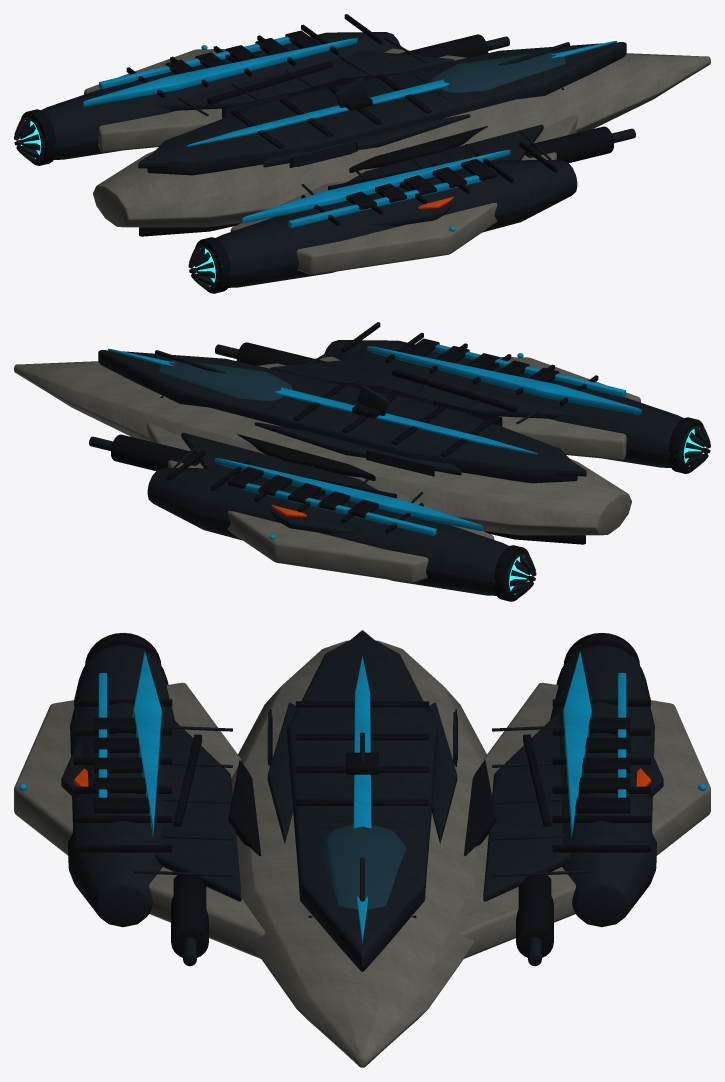
File: wasp_production_v1_lod0.glb
3 renders of one model, top to bottom at view 1: azimuth 30°, elevation 25°; view 2: azimuth 150°, elevation 25°; view 3: azimuth 270°, elevation 25°, orthographic. The views are drawn at different scales.
Visible parts, largest first — view 1: LOD0_Hull_Armor, LOD0_Hull, LOD0_Mechanical, LOD0_Accent, LOD0_Canopy; view 2: LOD0_Hull_Armor, LOD0_Hull, LOD0_Mechanical, LOD0_Accent, LOD0_Canopy; view 3: LOD0_Hull_Armor, LOD0_Hull, LOD0_Mechanical, LOD0_Accent, LOD0_Canopy.
Part boxes in pixels (box(x1,y1,x2,y2)): LOD0_Hull_Armor: box(14, 32, 635, 289); LOD0_Hull: box(84, 48, 710, 274); LOD0_Mechanical: box(20, 14, 613, 293); LOD0_Accent: box(83, 36, 616, 231); LOD0_Canopy: box(432, 52, 565, 92); LOD0_Hull_Armor: box(89, 340, 710, 597); LOD0_Hull: box(14, 356, 640, 582); LOD0_Mechanical: box(111, 322, 704, 601); LOD0_Accent: box(108, 344, 641, 539); LOD0_Canopy: box(159, 360, 292, 400); LOD0_Hull_Armor: box(61, 630, 663, 971); LOD0_Hull: box(14, 640, 710, 1067); LOD0_Mechanical: box(74, 633, 650, 957); LOD0_Accent: box(18, 651, 706, 944); LOD0_Canopy: box(318, 825, 406, 909).
Size of what is drawn, in the model's own units: 22.12 by 3.7 by 16.16.
Materials: 7 (5 with a texture image).
